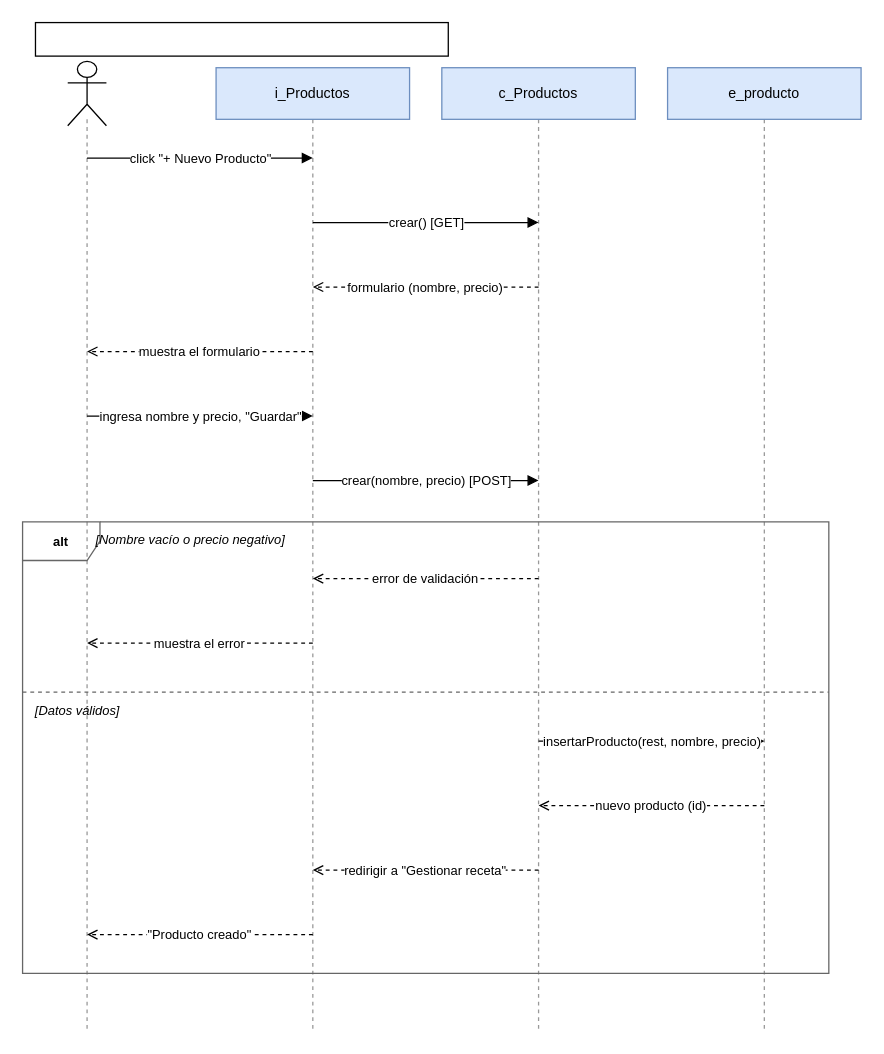
Image size: 884x1054. Some labels were removed from this diagram. Each missing label, with the centre of its shape:
Administrador: (86,93)
Secuencia - Agregar Producto (CU-23): (241,38)
